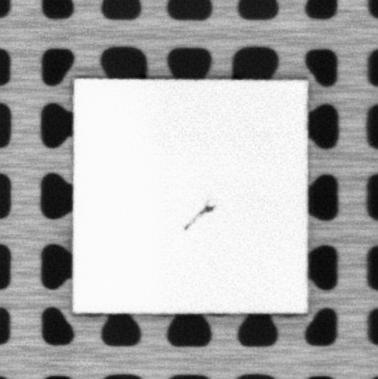DIE_INK: (183, 206, 213, 231)
